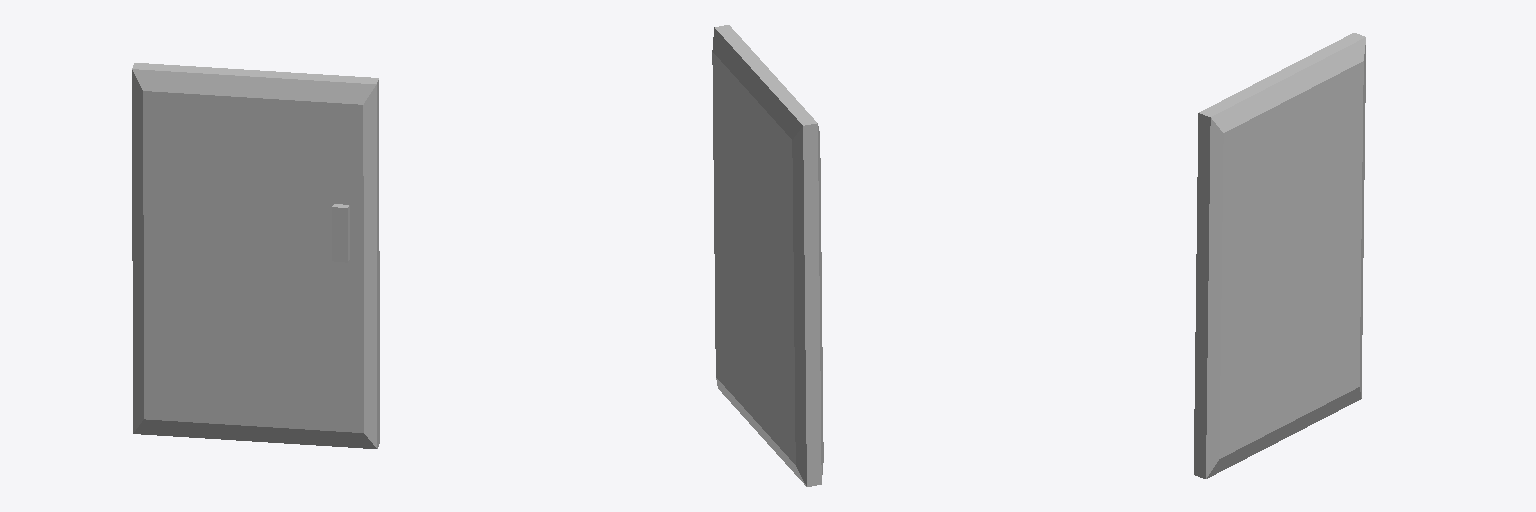
The picture shows the model from 3 angles: view 1: azimuth 30°, elevation 25°; view 2: azimuth 150°, elevation 25°; view 3: azimuth 270°, elevation 25°; orthographic projection.
Visible parts, largest first — view 1: group[number redacted], group[number redacted]; view 2: group[number redacted]; view 3: group[number redacted].
Boxes of the visible parts, box(x1,y1,x2,y2) form: group[number redacted]: box(132, 63, 379, 448); group[number redacted]: box(332, 204, 349, 262); group[number redacted]: box(712, 25, 823, 486); group[number redacted]: box(1194, 33, 1365, 478).
Bounding box in the file's own units: 0.3875 × 0.7622 × 0.3278.